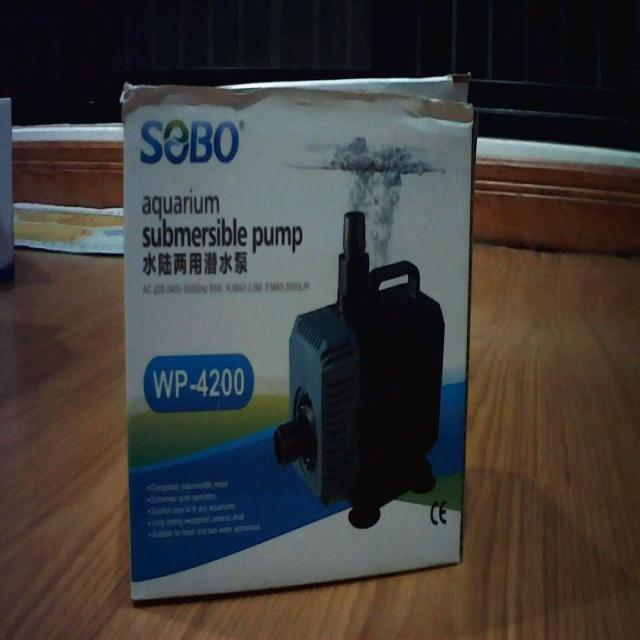SOBO_WP_4200: (106, 48, 490, 605)
